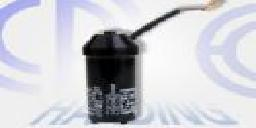Electrolytic-capacitor: (83, 1, 211, 128)
